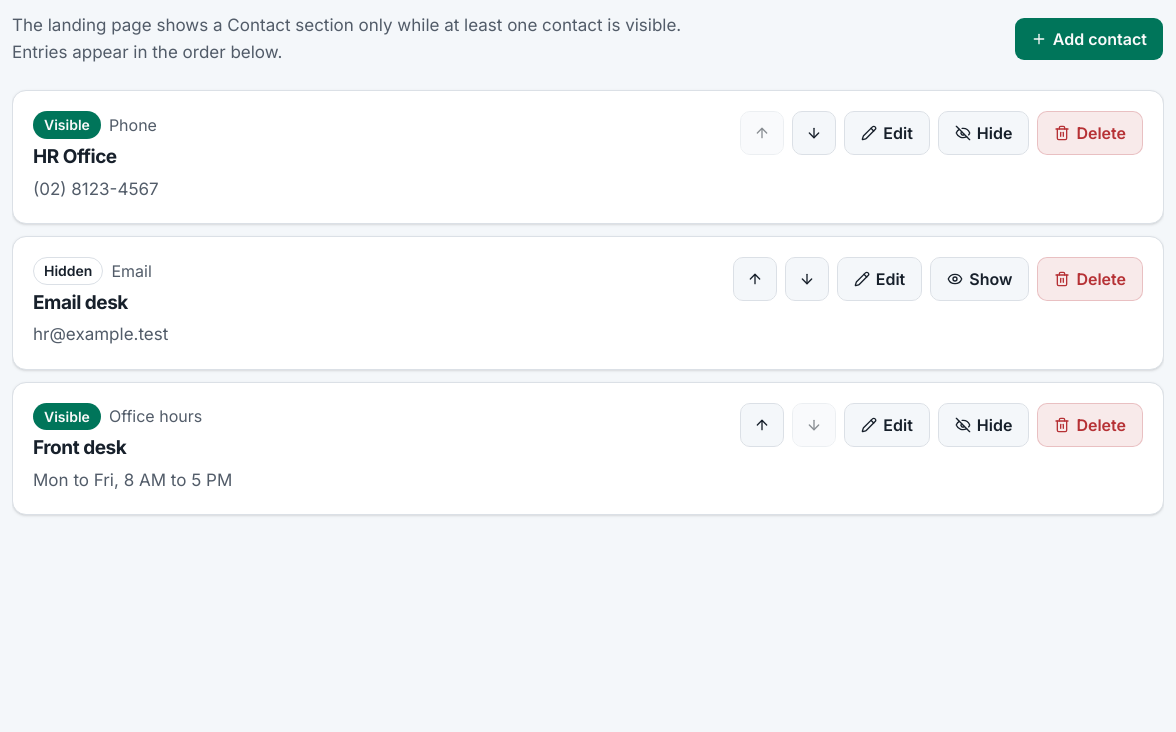
HrContactsPanel › asks before deleting a contact
The image size is (1176, 732).
Click the button with aria-label "Delete Email desk": (1090,279) x1=1037 y1=257 x2=1143 y2=301
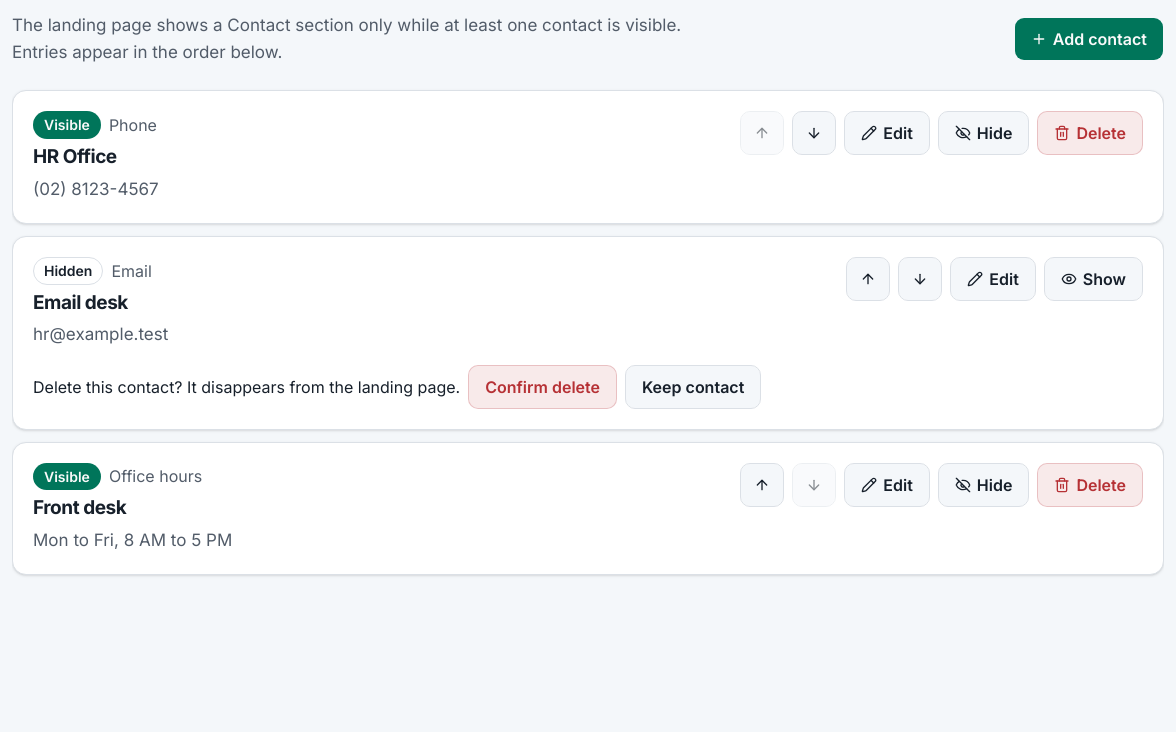
Click the button "Confirm delete": (543,387) x1=468 y1=365 x2=617 y2=409
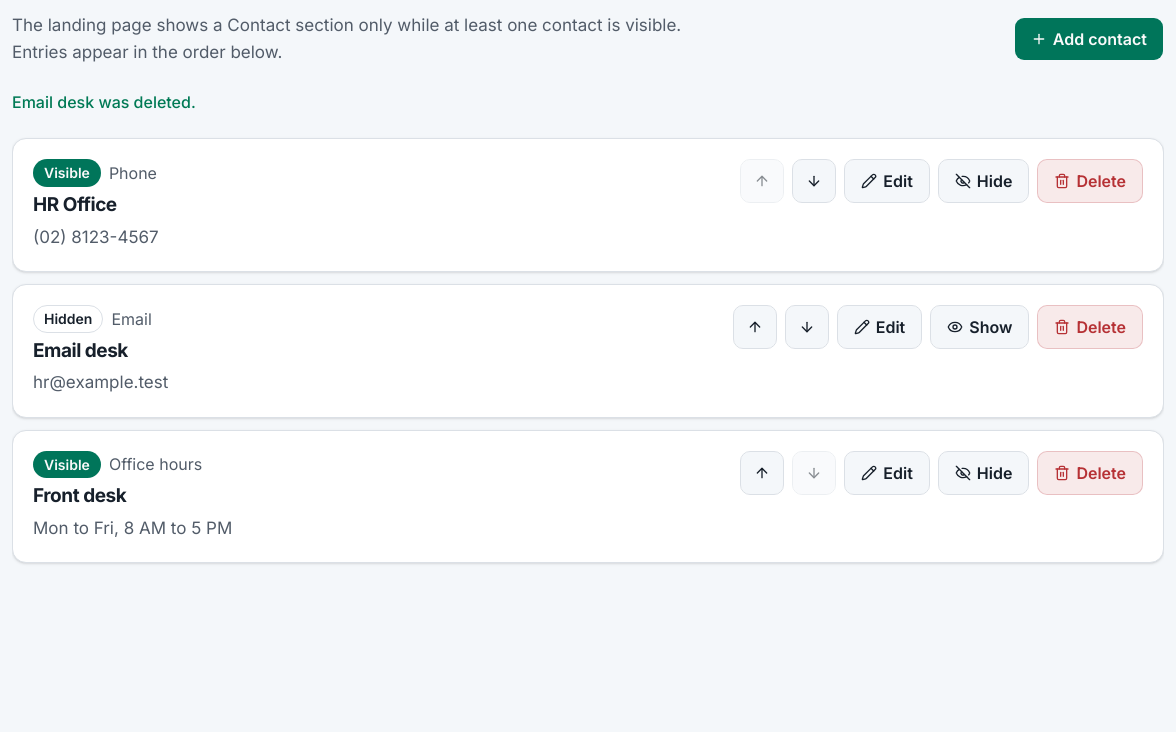
Check: the text "Email desk was deleted." is shown, box x1=12 y1=92 x2=196 y2=112
